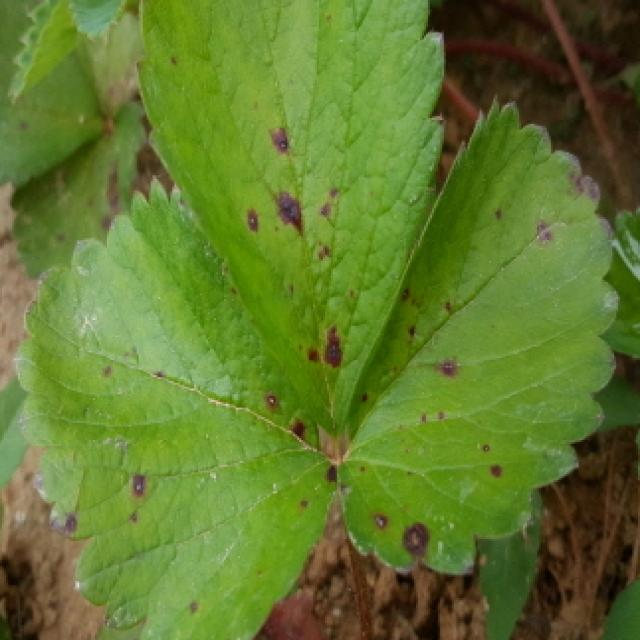Leaf Spot: (11, 173, 336, 640), (333, 92, 621, 577), (135, 0, 448, 441), (11, 97, 148, 280)
